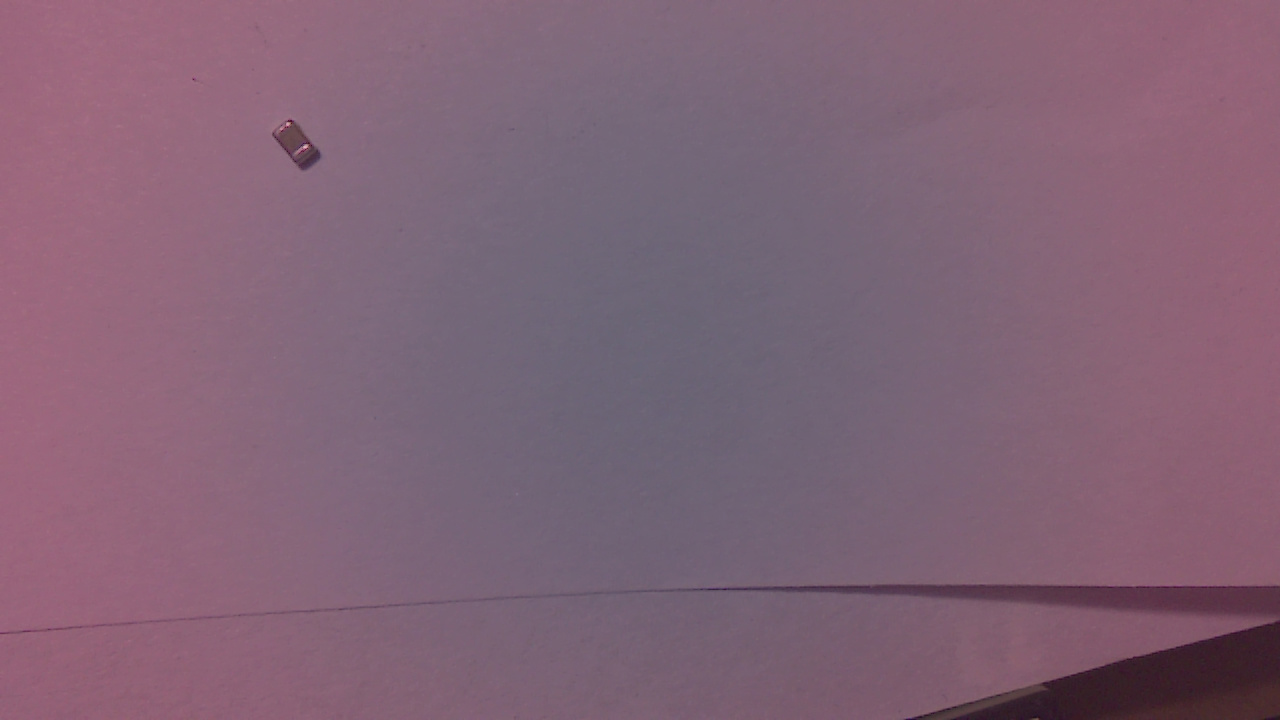Condensator: (273, 120, 326, 179)
